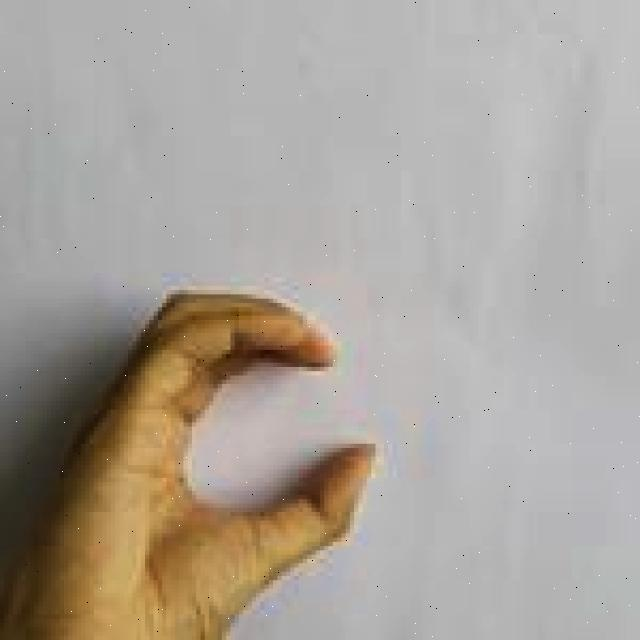C: (2, 287, 378, 640)
